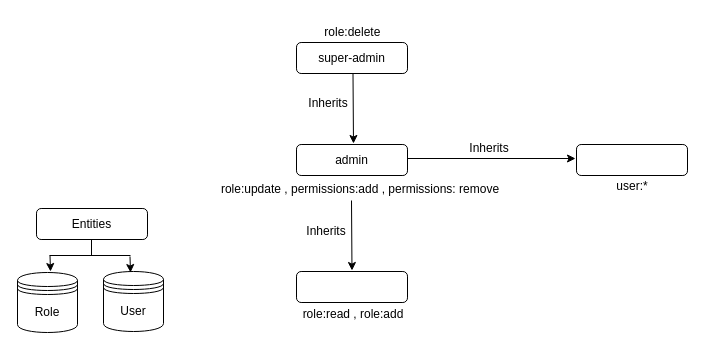
Image size: 721x350. Some labels were removed from this diagram. Here are the shapes that lost their labels. From the top down, the centre of each, then its label:
(x=632, y=160): manager
(x=352, y=286): agent
